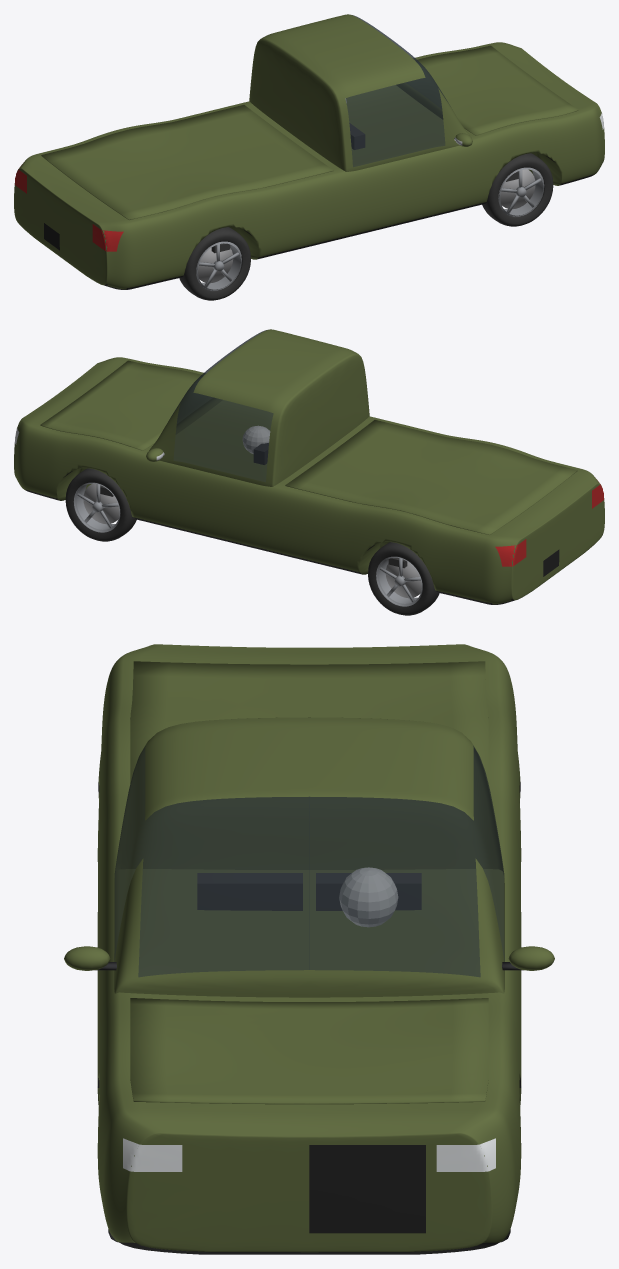
The model's file is derby_marlow_workhorse.glb.
The picture shows the model from 3 angles, top to bottom: view 1: azimuth 30°, elevation 25°; view 2: azimuth 150°, elevation 25°; view 3: azimuth 270°, elevation 25°; orthographic projection. The views are drawn at different scales.
Parts seen in each view (by area): view 1: body, cabin, boot, bumper_rear, bonnet, wheel_rr_spin, wheel_fr_spin, bumper_front; view 2: body, cabin, boot, bumper_rear, bonnet, wheel_rl_spin, wheel_fl_spin, bumper_front, interior; view 3: cabin, bumper_front, body, bonnet, boot, interior, bumper_rear, mirror_l, mirror_r.
Part boxes in pixels (x1,y1,x2,y2): body: (35, 45, 584, 289); cabin: (249, 14, 469, 171); boot: (41, 105, 333, 219); bumper_rear: (14, 154, 134, 289); bonnet: (406, 45, 578, 135); wheel_rr_spin: (179, 227, 250, 300); wheel_fr_spin: (482, 153, 553, 226); bumper_front: (485, 42, 604, 179); body: (34, 360, 583, 604); cabin: (149, 329, 369, 486); boot: (285, 420, 577, 534); bumper_rear: (484, 469, 604, 604); bonnet: (40, 360, 212, 450); wheel_rl_spin: (368, 542, 439, 615); wheel_fl_spin: (65, 468, 136, 541); bumper_front: (14, 357, 133, 494); interior: (242, 425, 270, 464); cabin: (114, 717, 504, 997); bumper_front: (101, 1099, 517, 1254); body: (97, 660, 521, 1203); bonnet: (130, 998, 488, 1104); boot: (130, 661, 488, 783); interior: (197, 867, 421, 927); bumper_rear: (108, 644, 510, 678); mirror_l: (502, 946, 554, 970); mirror_r: (64, 946, 116, 970).
Size of the model in its own units: 5.46 by 1.85 by 2.32.
